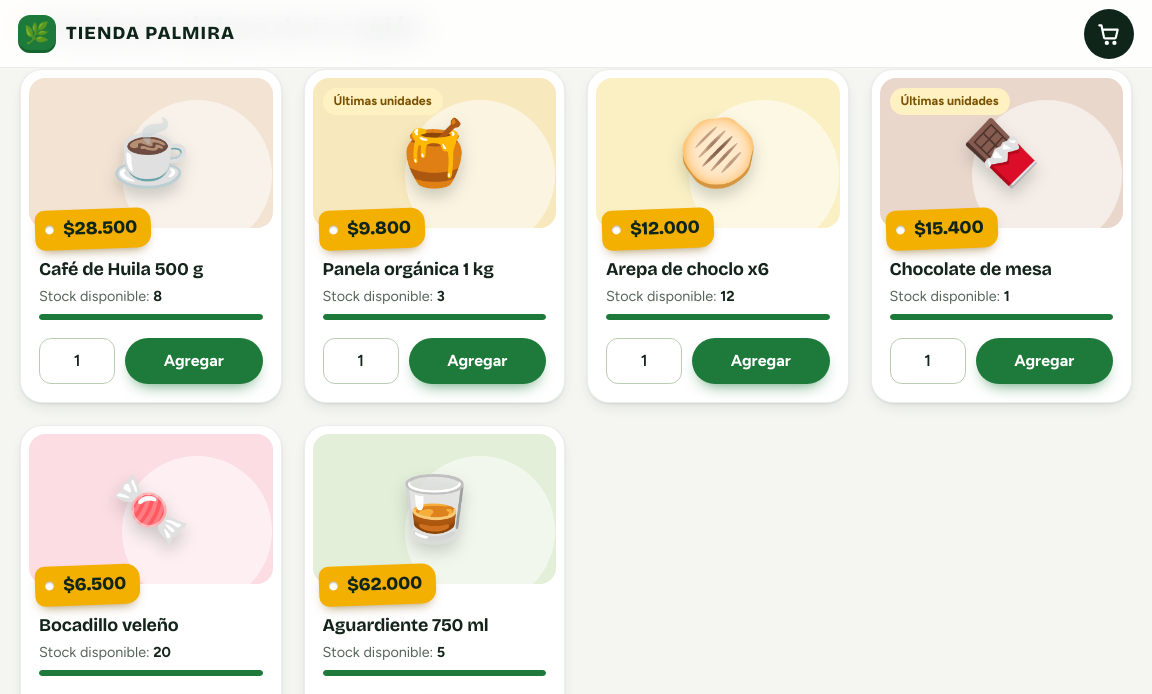
Stock máximo › Caso 5: escribir 999 con stock 8 corrige a 8 y muestra el toast
(page scrolled)
Replace the text in the number field named "Cantidad de Café de Huila 500 g" with "999". click: (77, 361)
box: [39,338,115,384]
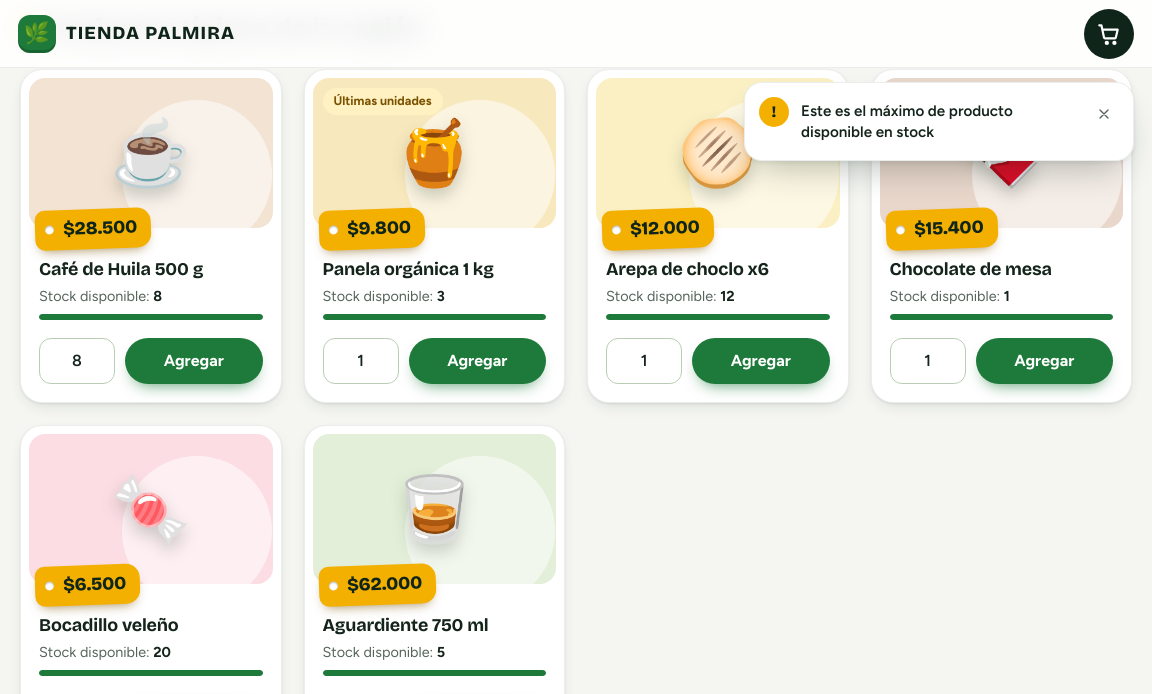
Expected: the text "Este es el máximo de producto disponible en stock" is shown, [801,102,1013,140]
